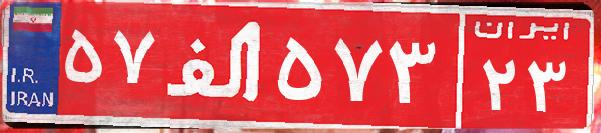2: (475, 38, 525, 113)
3: (385, 28, 445, 110), (525, 38, 570, 115)
5: (273, 28, 330, 110), (57, 26, 110, 107)
7: (330, 28, 385, 110), (110, 28, 158, 105)
الف: (158, 15, 273, 115)
